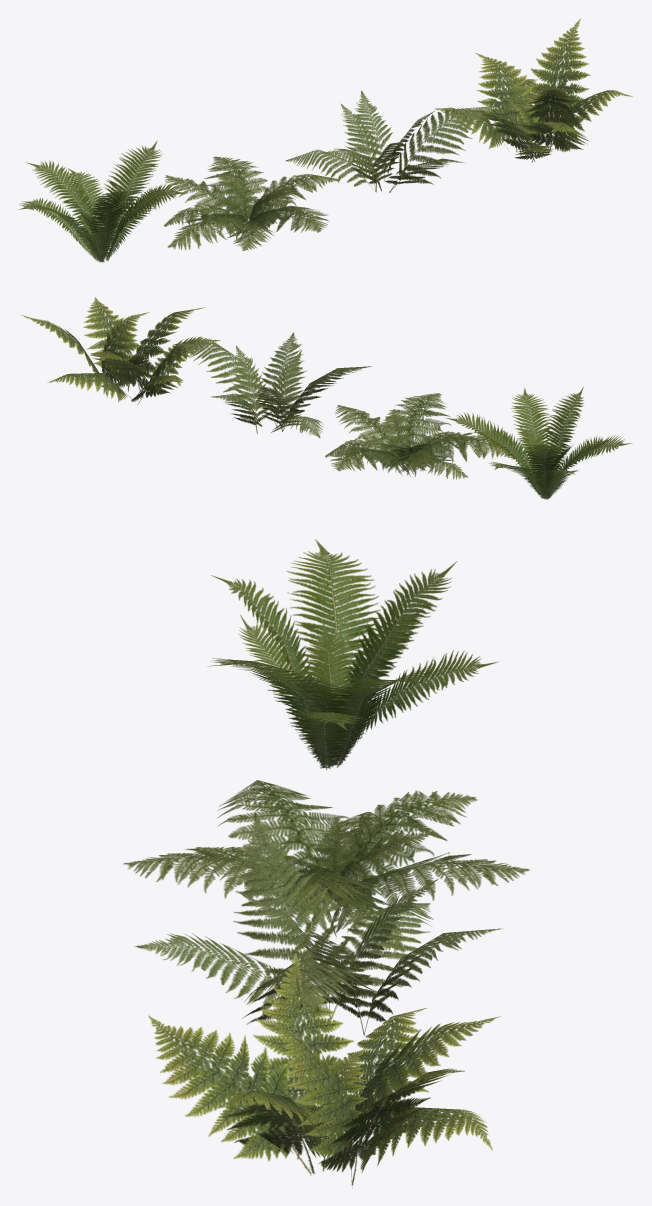
Rendered from feto.glb.
3 views of the same model, one above another, from view 1: azimuth 30°, elevation 25°; view 2: azimuth 150°, elevation 25°; view 3: azimuth 270°, elevation 25° (orthographic). The views are drawn at different scales.
Visible parts, largest first — view 1: feto; view 2: feto; view 3: feto.
Part boxes in pixels (<box>): feto: <box>18,18,632,262</box>; feto: <box>21,297,632,499</box>; feto: <box>123,539,529,1188</box>.
Size of the model in its own units: 4.12 by 0.7001 by 1.33.
1 material, 1 textured.
